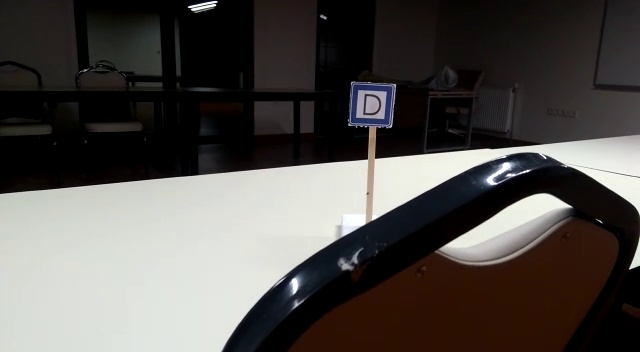durak: (348, 82, 396, 126)
